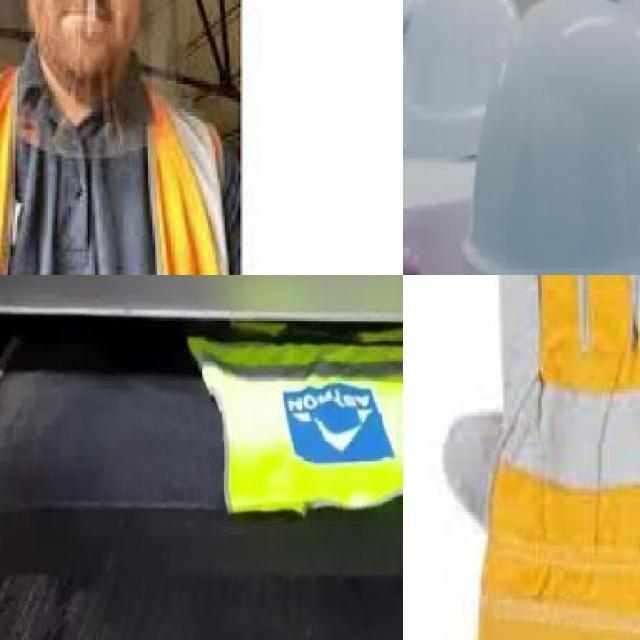apron: (435, 275, 640, 640)
